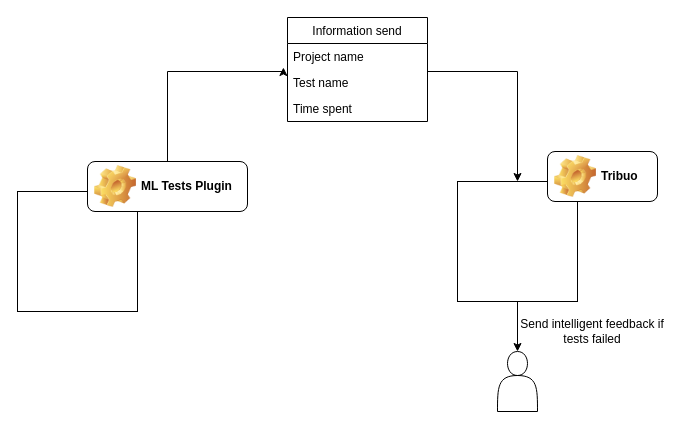
This 685x429 diagram has some shape labels left out. The box of each missing label's shape, as (x1, y1, x2, y2) in pixels:
App Server (Analyser): (456, 180, 578, 302)
Jenkins: (16, 190, 138, 312)
